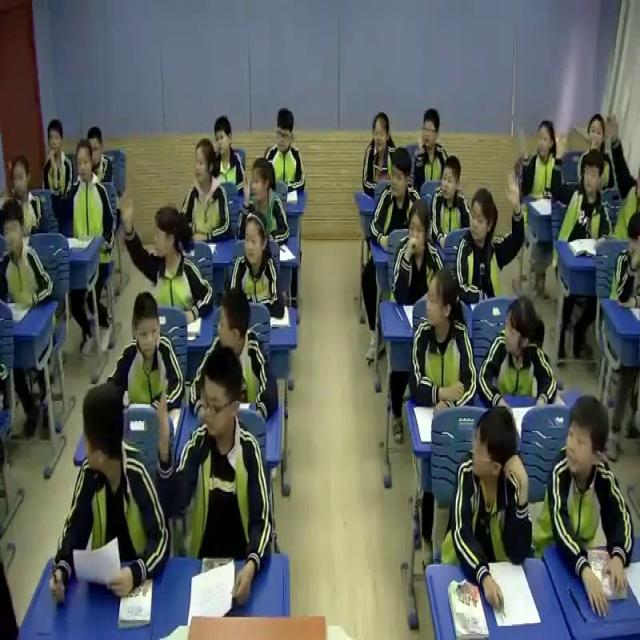distracted: (57, 381, 171, 599), (545, 394, 633, 596), (451, 406, 534, 579), (192, 291, 276, 418), (411, 267, 476, 413), (478, 296, 561, 409), (370, 149, 425, 252), (390, 201, 444, 300), (182, 139, 231, 242), (431, 154, 474, 244), (414, 104, 457, 194), (362, 113, 404, 187), (211, 117, 247, 195)
focused: (112, 293, 189, 420), (227, 218, 288, 322), (0, 201, 56, 314), (264, 107, 314, 205), (10, 156, 48, 239), (577, 116, 616, 186), (42, 122, 73, 196)
raising_hand: (154, 349, 275, 578), (116, 183, 215, 332), (452, 165, 525, 304), (50, 140, 115, 256), (550, 128, 608, 241), (235, 156, 291, 246), (605, 113, 640, 240), (515, 115, 561, 205)
